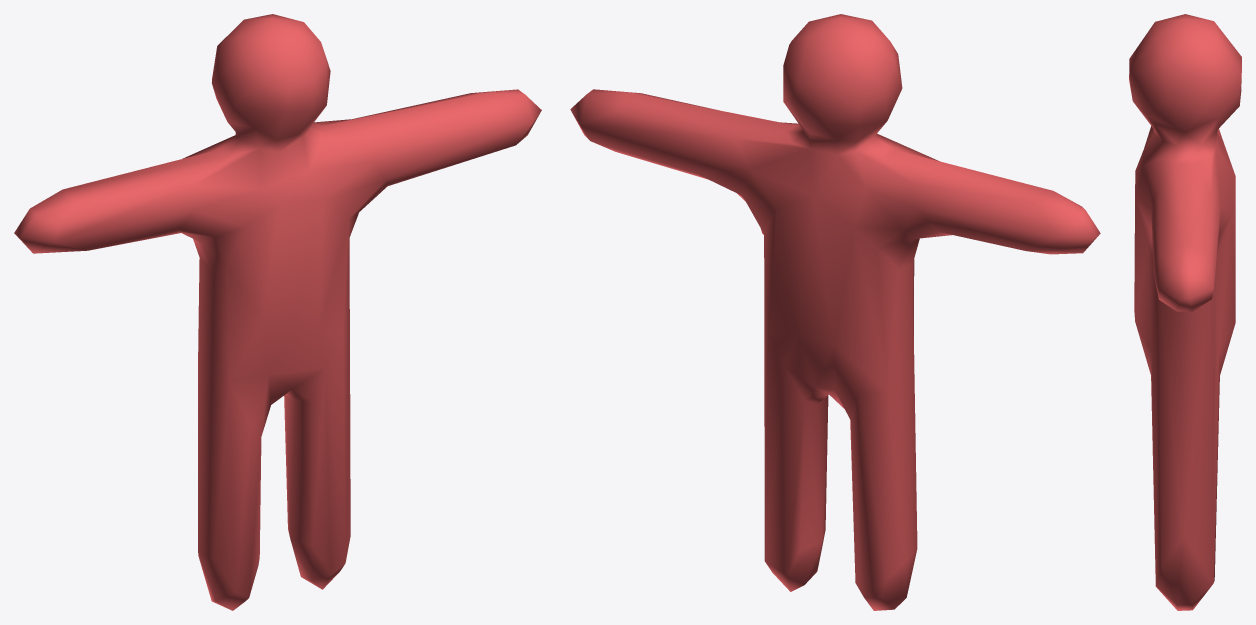
The model's file is Stickman200Model.fbx.
3 renders of one model, left to right at view 1: azimuth 30°, elevation 25°; view 2: azimuth 150°, elevation 25°; view 3: azimuth 270°, elevation 25°, orthographic. The views are drawn at different scales.
Parts seen in each view (by area): view 1: Mball.008; view 2: Mball.008; view 3: Mball.008.
Part boxes in pixels (x1,y1,x2,y2): Mball.008: (14,14,541,610); Mball.008: (570,14,1100,610); Mball.008: (1129,14,1241,610).
Size of the model in its own units: 12.32 by 13.07 by 2.35.
